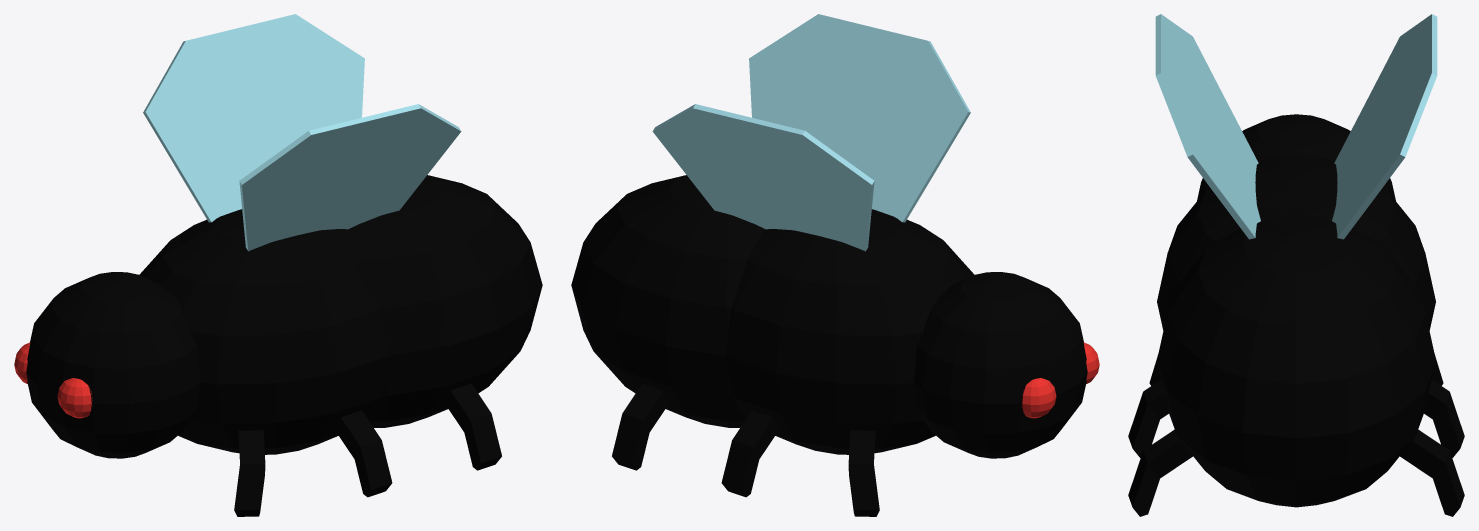
The model's file is fly.glb.
3 views of the same model, side by side, from view 1: azimuth 30°, elevation 25°; view 2: azimuth 150°, elevation 25°; view 3: azimuth 270°, elevation 25° (orthographic). The views are drawn at different scales.
Visible parts, largest first — view 1: Sphere; view 2: Sphere; view 3: Sphere.
Part boxes in pixels (<box>): Sphere: <box>14,14,542,516</box>; Sphere: <box>571,14,1099,516</box>; Sphere: <box>1128,14,1464,516</box>.
Bounding box in the file's own units: 4.49 × 3.24 × 2.41.
